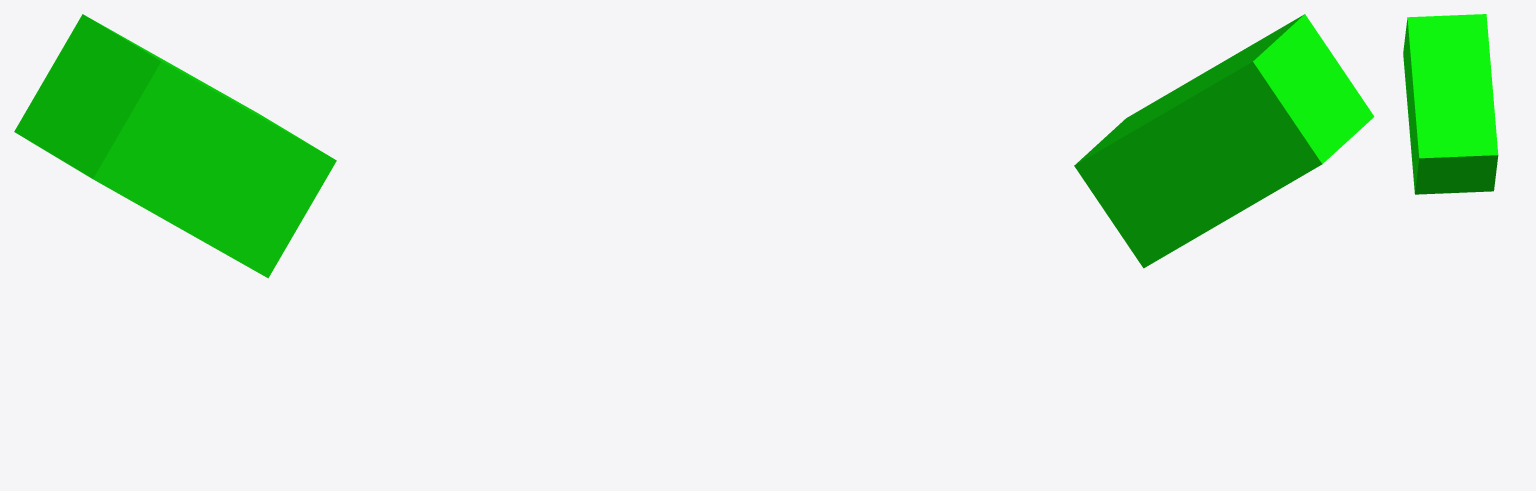
The picture shows the model from 3 angles, left to right: view 1: azimuth 30°, elevation 25°; view 2: azimuth 150°, elevation 25°; view 3: azimuth 270°, elevation 25°; orthographic projection. The views are drawn at different scales.
Parts seen in each view (by area): view 1: mesh; view 2: mesh; view 3: mesh.
Boxes of the visible parts, <box> form: mesh: <box>14,14,336,278</box>; mesh: <box>1074,14,1374,268</box>; mesh: <box>1403,14,1498,194</box>.
Size of the model in its own units: 542 by 448 by 150.
